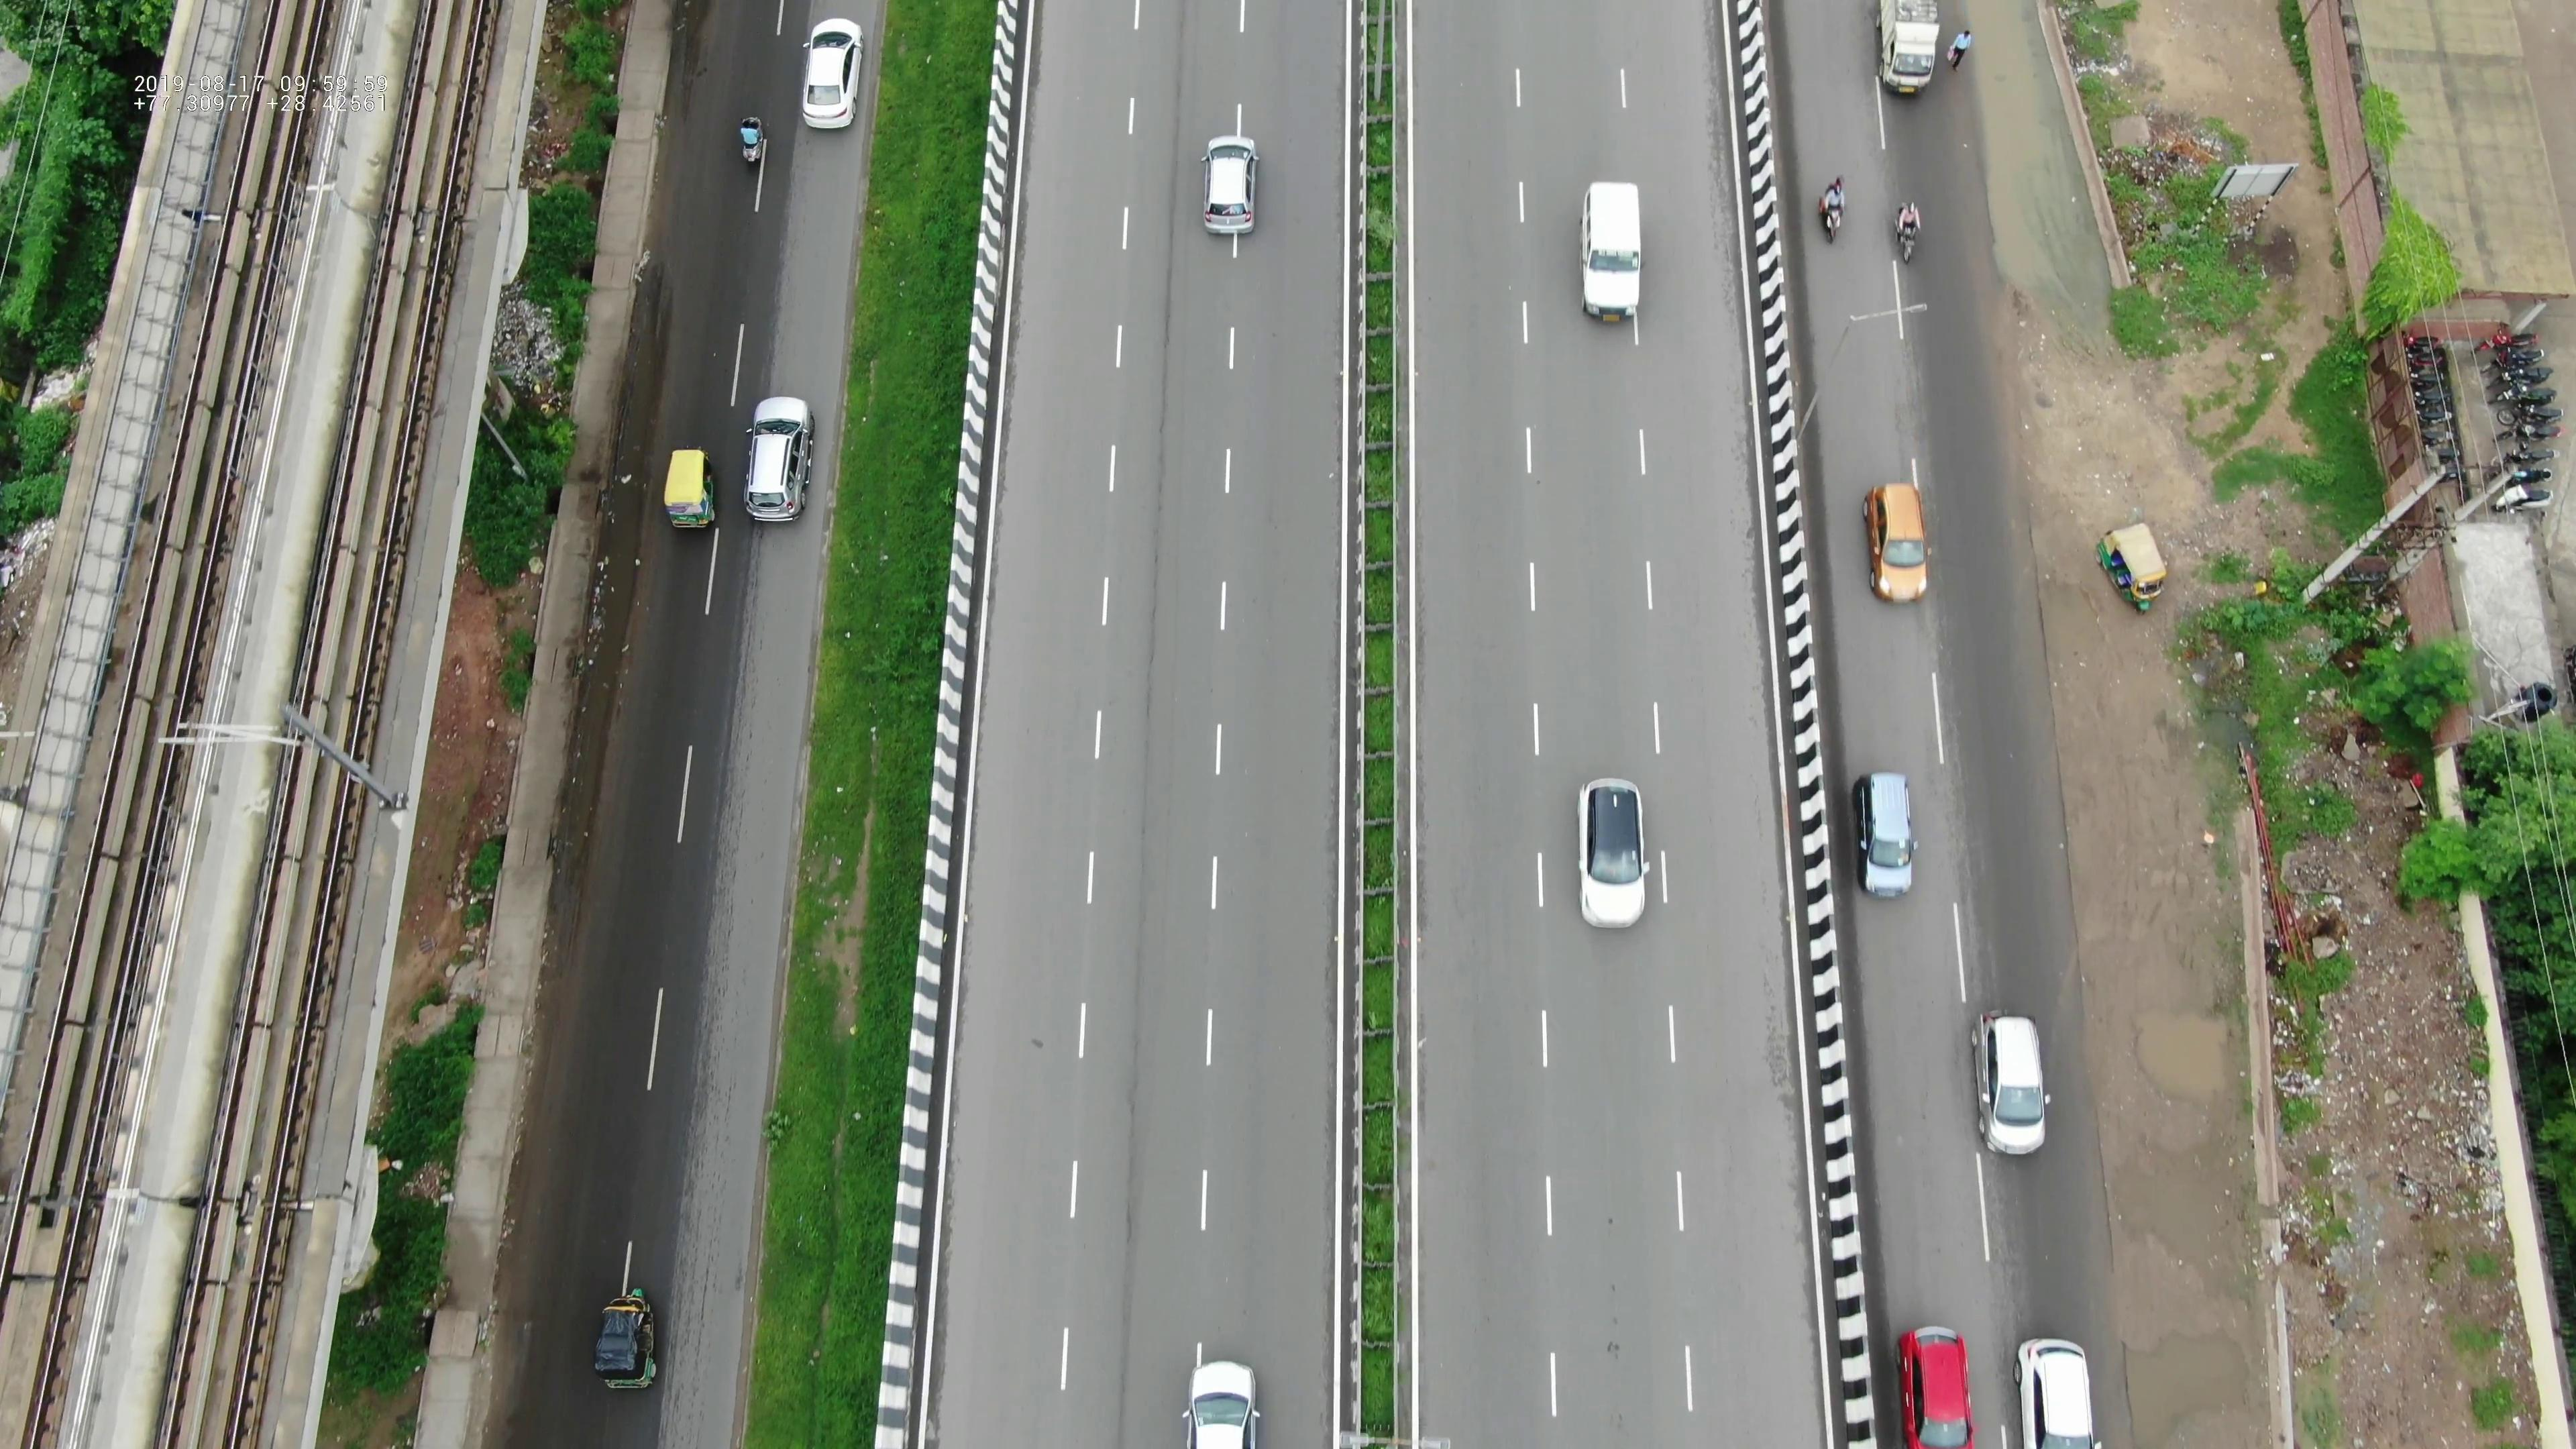Ravelling: (1136, 78, 1182, 623)
Waterlogging: (1964, 23, 2109, 336), (584, 464, 649, 729)
